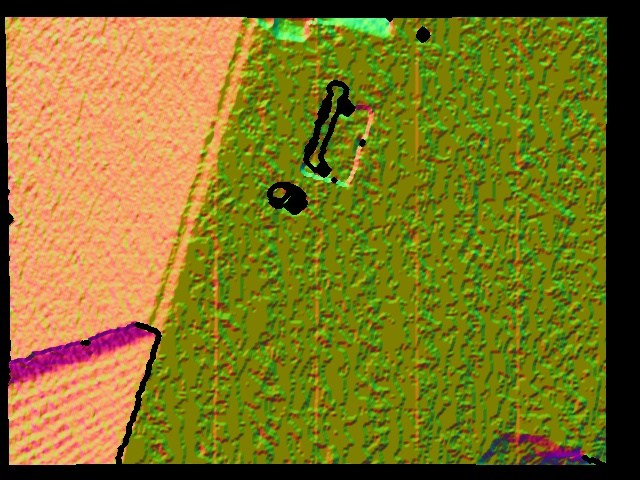station: (299, 81, 381, 189)
